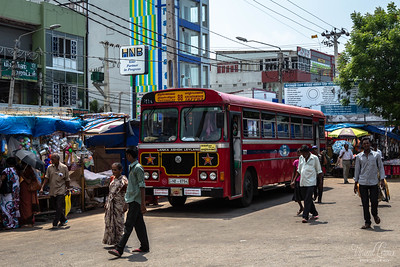bus: (137, 87, 325, 208)
